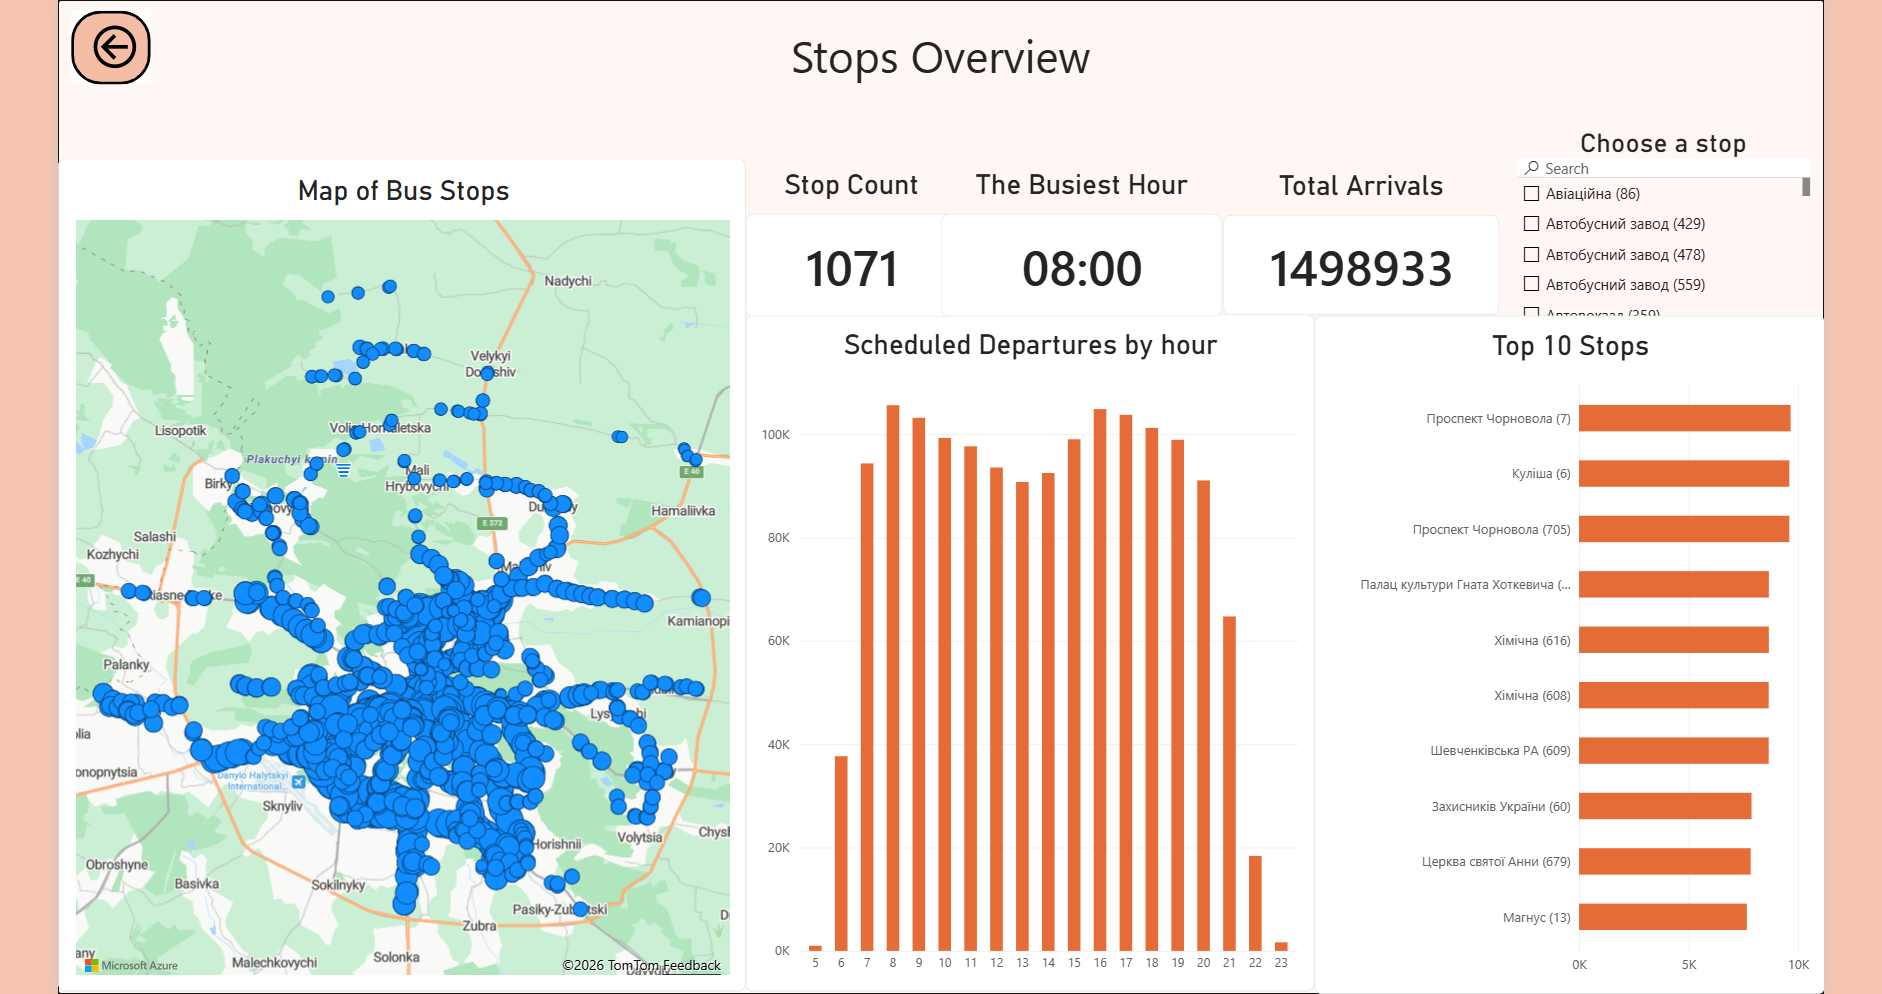

The dashboard page shown, as its layout file describes it:
{"tool":"powerbi","page":{"name":"Stops Overview","canvas":[1920,1080],"ordinal":1},"visuals":[{"type":"azureMap","title":"Map of Bus Stops","fields":{"Size":["fact_stop_events.scheduled_stop_events"],"X":["dim_stops.stop_lon"],"Y":["dim_stops.stop_lat"]},"box":[0,172.5,747.5,905],"z":0},{"type":"clusteredColumnChart","title":"Scheduled Departures by hour","fields":{"Category":["fact_stop_events.start_hour_stop"],"Y":["fact_stop_events.scheduled_stop_events"]},"box":[748,342,618,736],"z":1000},{"type":"clusteredBarChart","title":"Top 10 Stops","fields":{"Category":["dim_stops.stop_name"],"Y":["fact_stop_events.scheduled_stop_events"]},"box":[1365,342.5,555,737.5],"z":2000},{"type":"textbox","box":[0,26.9,1919.1,105.9],"z":3000},{"type":"actionButton","box":[13.8,11.2,86.2,80],"z":4000},{"type":"cardVisual","title":"Stop Count","fields":{"Data":["Count(dim_stops.stop_id)"]},"box":[747.5,172.5,230,172.5],"z":5000},{"type":"cardVisual","title":"The Busiest Hour","fields":{"Data":["fact_trips.scheduled_trips max per start_hour 2"]},"box":[960,172.5,305,172.5],"z":6000},{"type":"slicer","title":"Choose a stop","fields":{"Values":["dim_stops.stop_name"]},"box":[1568,132,352,210],"z":7000},{"type":"cardVisual","title":"Total Arrivals","fields":{"Data":["fact_stop_events.scheduled_stop_events"]},"box":[1266.7,173.3,300,170],"z":8000}]}

Visuals, with their boxes on the page's 1920x1080 design canvas (x1, y1, x2, y2). These are canvas units, not pixel positions in the 1882x994 screenshot, which may show the page scaled, cropped or inside an application window:
"Map of Bus Stops" azureMap: detection(0, 172, 748, 1078)
"Scheduled Departures by hour" clusteredColumnChart: detection(748, 342, 1366, 1078)
"Top 10 Stops" clusteredBarChart: detection(1365, 342, 1920, 1080)
textbox: detection(0, 27, 1919, 133)
actionButton: detection(14, 11, 100, 91)
"Stop Count" cardVisual: detection(748, 172, 978, 345)
"The Busiest Hour" cardVisual: detection(960, 172, 1265, 345)
"Choose a stop" slicer: detection(1568, 132, 1920, 342)
"Total Arrivals" cardVisual: detection(1267, 173, 1567, 343)
